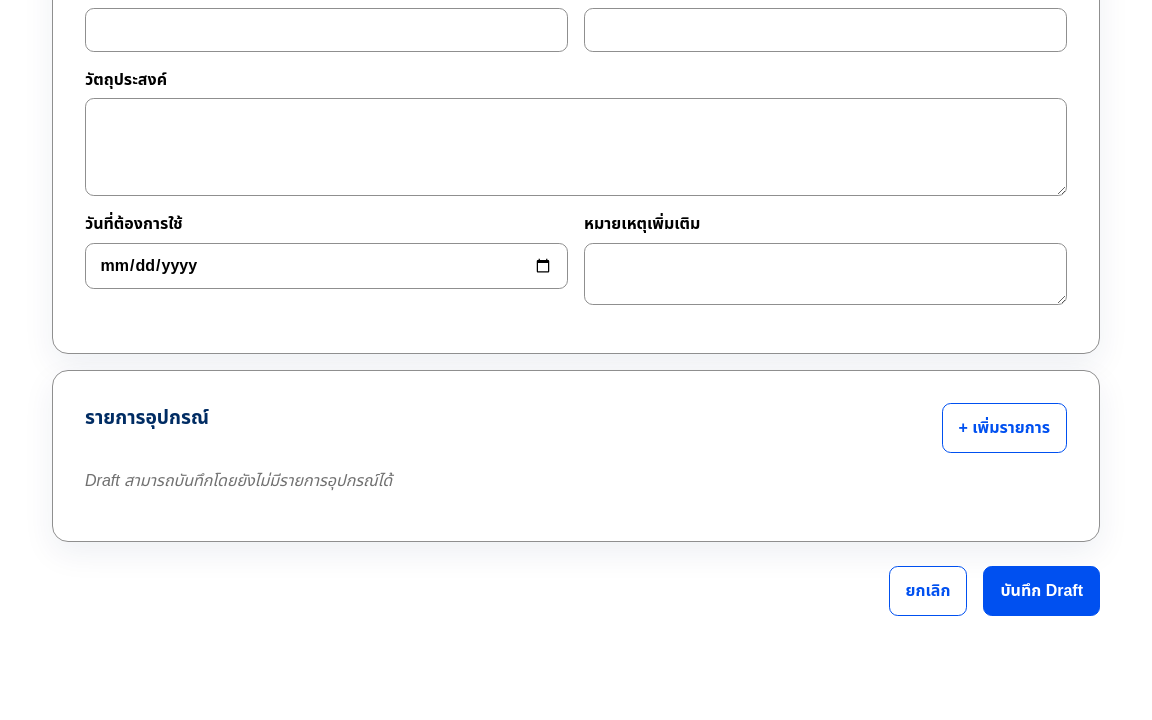
Test case: RequestForm › adds and removes dynamic item rows and protects a dirty form
(page scrolled)
Check: the text "Draft สามารถบันทึกโดยยังไม่มีรายการอุปกรณ์ได้" is shown, box top-left (85, 472), bottom-right (392, 489)
Click the button "+ เพิ่มรายการ" at (1004, 428), box top-left (942, 403), bottom-right (1067, 453)
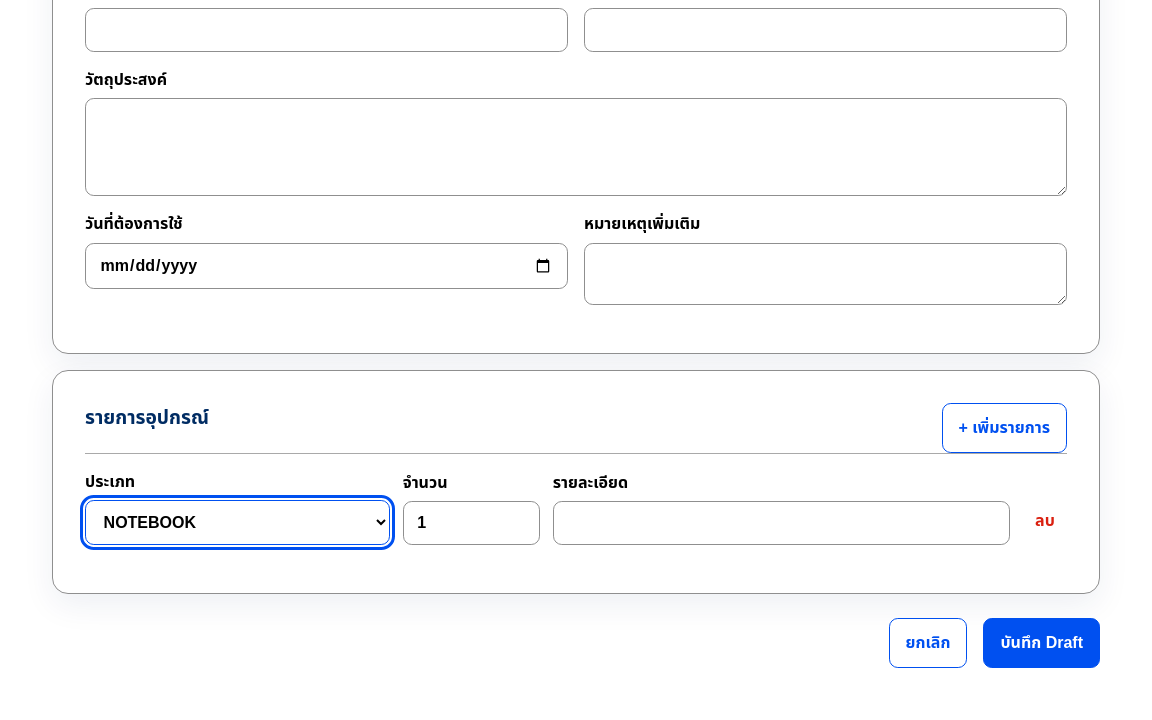
Check: the dropdown labelled "ประเภท" is shown, box top-left (85, 500), bottom-right (390, 545)
Check: the number field labelled "จำนวน" holds "1", box top-left (403, 501), bottom-right (540, 545)
Click the button "ลบ" at (1045, 521), box top-left (1023, 497), bottom-right (1067, 545)
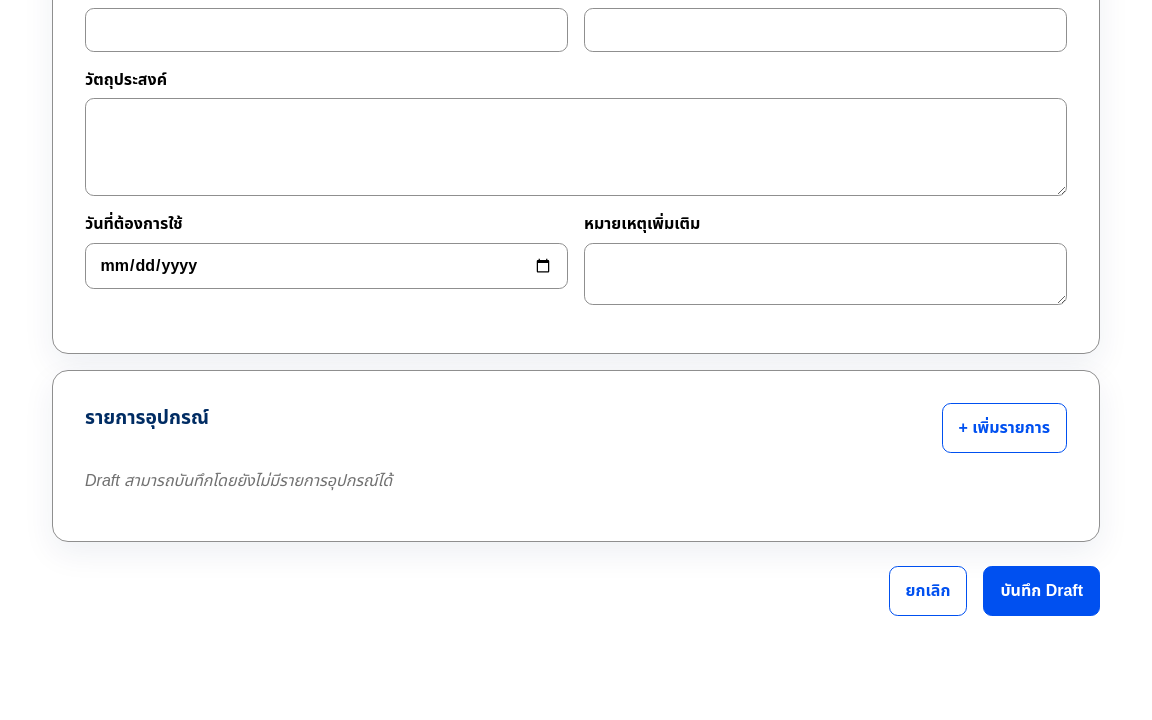
Check: the text labelled "ประเภท" is gone
